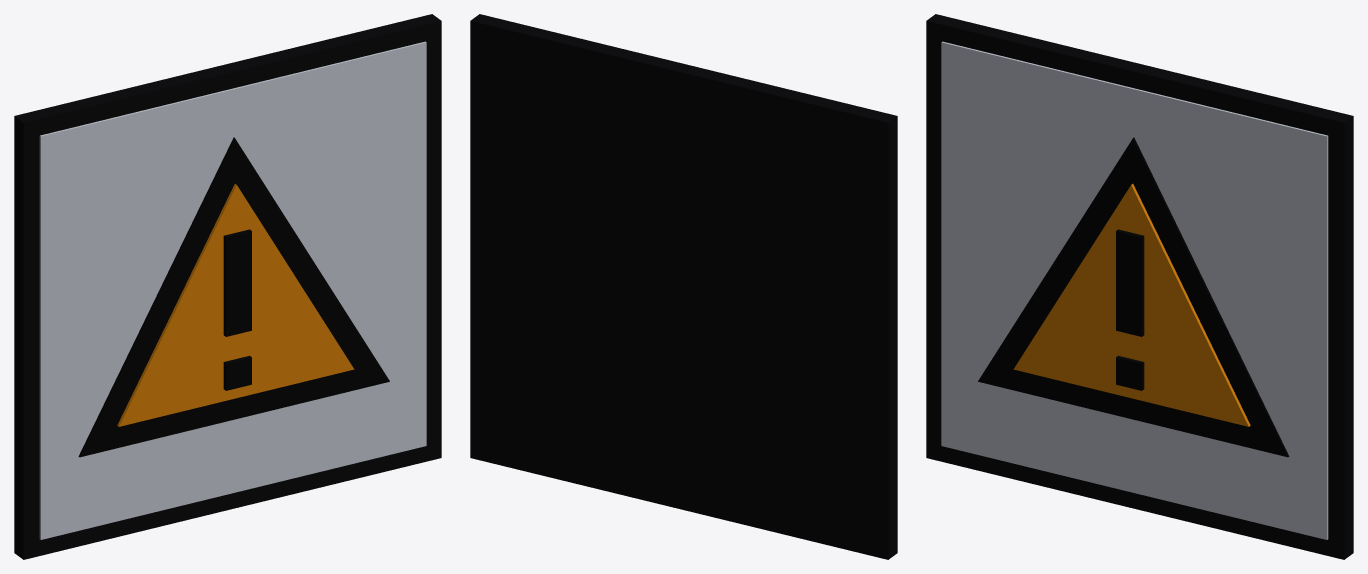
Rendered from SM_Sign_Hazard.glb.
The picture shows the model from 3 angles, left to right: view 1: azimuth 30°, elevation 25°; view 2: azimuth 150°, elevation 25°; view 3: azimuth 330°, elevation 25°; orthographic projection.
Visible parts, largest first — view 1: SM_Sign_Hazard; view 2: SM_Sign_Hazard; view 3: SM_Sign_Hazard.
Boxes of the visible parts, x1,y1,x2,y2 form: SM_Sign_Hazard: (14,14,441,559); SM_Sign_Hazard: (470,14,897,559); SM_Sign_Hazard: (926,14,1353,559).
Size of the model in its own units: 0.52 by 0.52 by 0.034.
